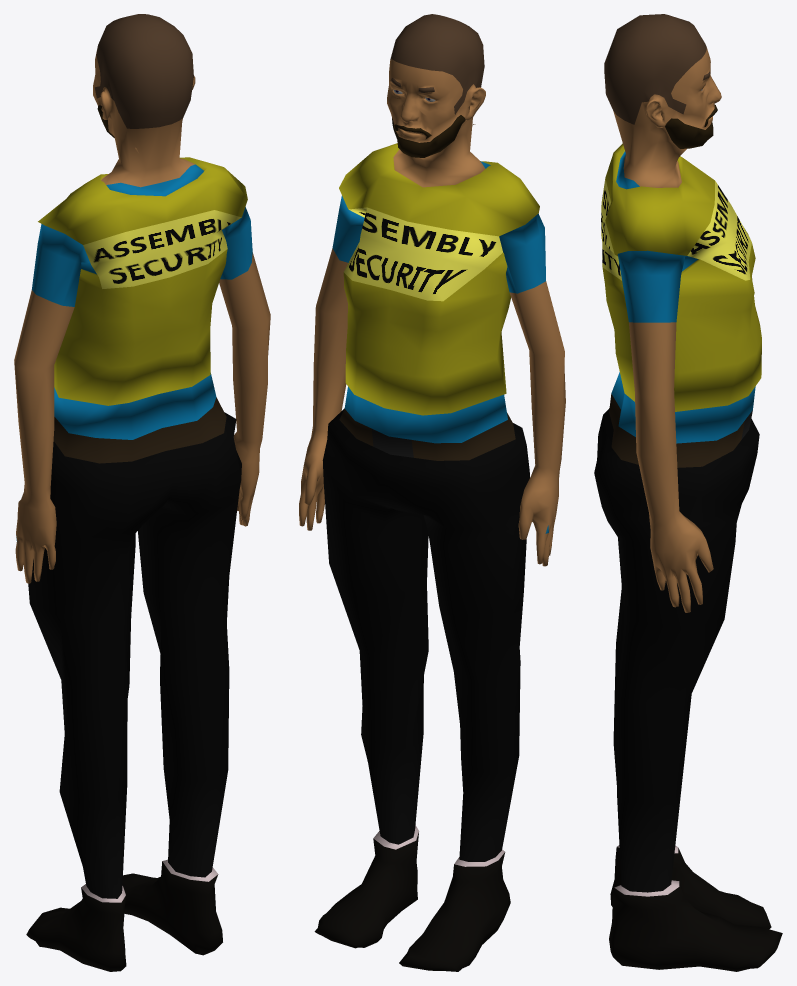
File: securityguy_000002.obj
3 views of the same model, side by side, from view 1: azimuth 30°, elevation 25°; view 2: azimuth 150°, elevation 25°; view 3: azimuth 270°, elevation 25° (orthographic). The views are drawn at different scales.
Visible parts, largest first — view 1: Cube; view 2: Cube; view 3: Cube.
Part boxes in pixels (x1=…): Cube: x1=14, y1=14, x2=270, y2=971; Cube: x1=299, y1=14, x2=565, y2=971; Cube: x1=594, y1=14, x2=782, y2=971.
Size of the model in its own units: 27.76 by 97.59 by 17.99.
13 materials, 1 textured.
